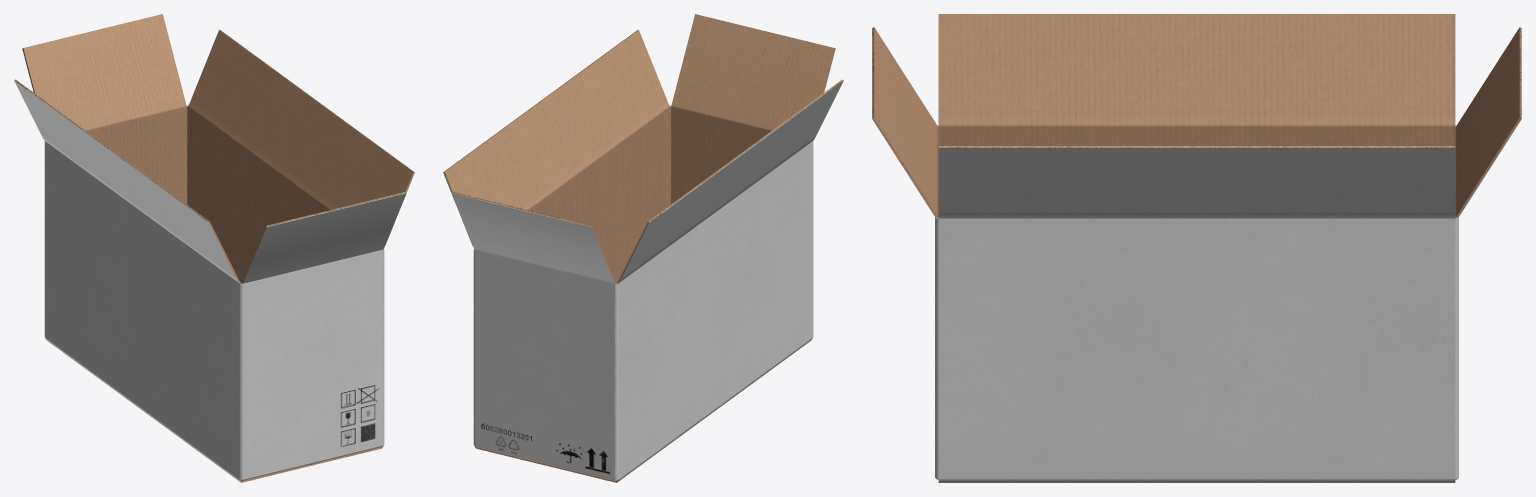
File: pack.glb
3 views of the same model, side by side, from view 1: azimuth 30°, elevation 25°; view 2: azimuth 150°, elevation 25°; view 3: azimuth 270°, elevation 25° (orthographic). The views are drawn at different scales.
Parts seen in each view (by area): view 1: CardboardBoxes; view 2: CardboardBoxes; view 3: CardboardBoxes.
Part boxes in pixels (x1,y1,x2,y2): CardboardBoxes: [14, 14, 414, 482]; CardboardBoxes: [443, 14, 843, 482]; CardboardBoxes: [872, 14, 1521, 482].
Size of the model in its own units: 0.1467 by 0.1865 by 0.301.
Materials: 1 (1 with a texture image).
